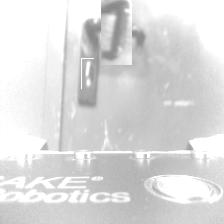Door Handle: (91, 6, 141, 56)
Lock: (81, 58, 94, 89)
